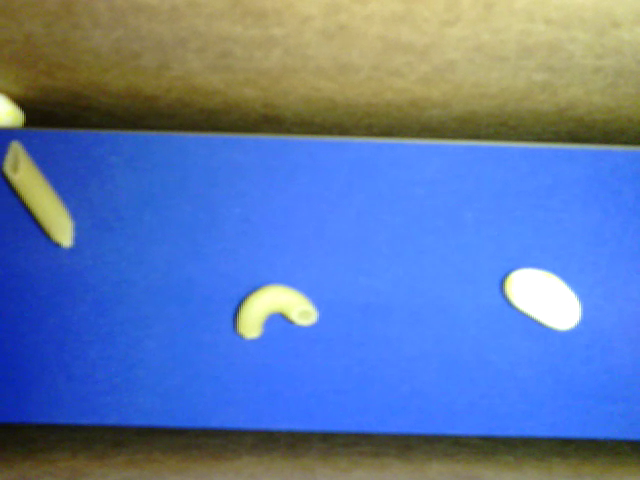elbow: (234, 282, 319, 339)
penne: (2, 138, 75, 249)
